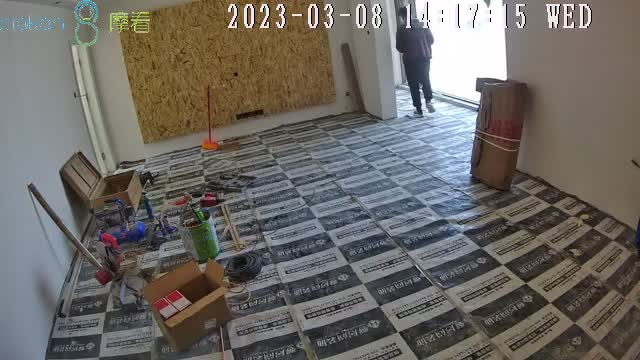people: (394, 6, 437, 119)
window: (403, 1, 509, 108)
